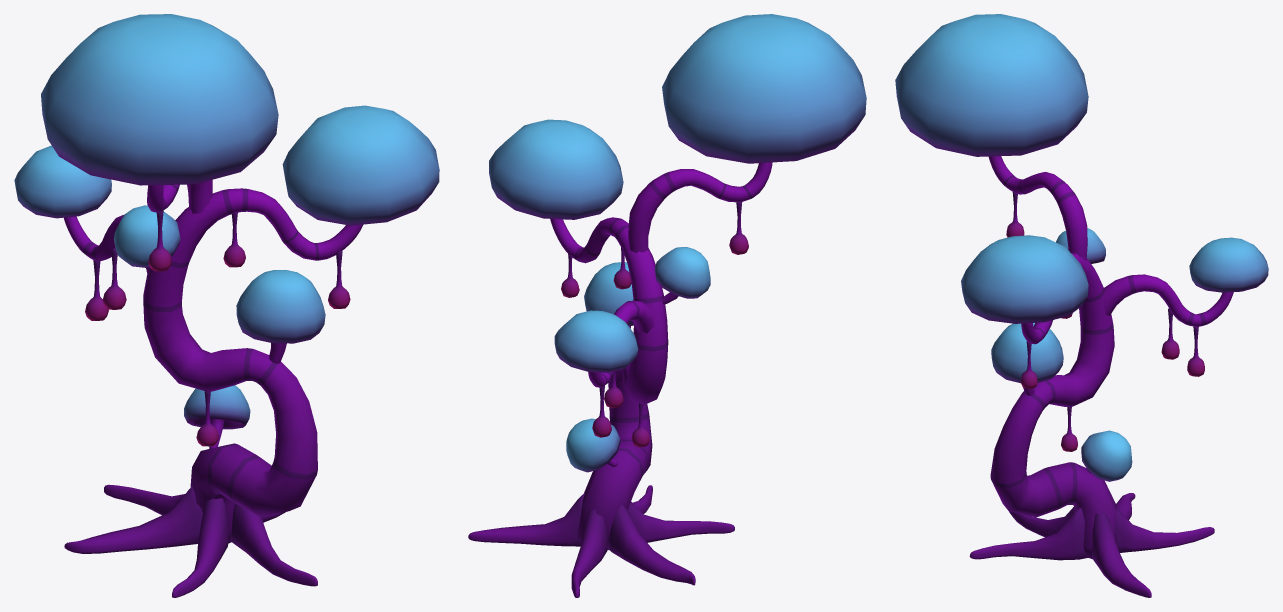
Rendered from anp_tree_2.fbx.
3 renders of one model, left to right at view 1: azimuth 30°, elevation 25°; view 2: azimuth 150°, elevation 25°; view 3: azimuth 270°, elevation 25°, orthographic. The views are drawn at different scales.
Visible parts, largest first — view 1: t2; view 2: t2; view 3: t2.
Part boxes in pixels (left/top/right/bottom): t2: left=14, top=14, right=439, bottom=597; t2: left=468, top=14, right=866, bottom=597; t2: left=895, top=14, right=1268, bottom=597.
Bounding box in the file's own units: 430 × 616 × 436.
